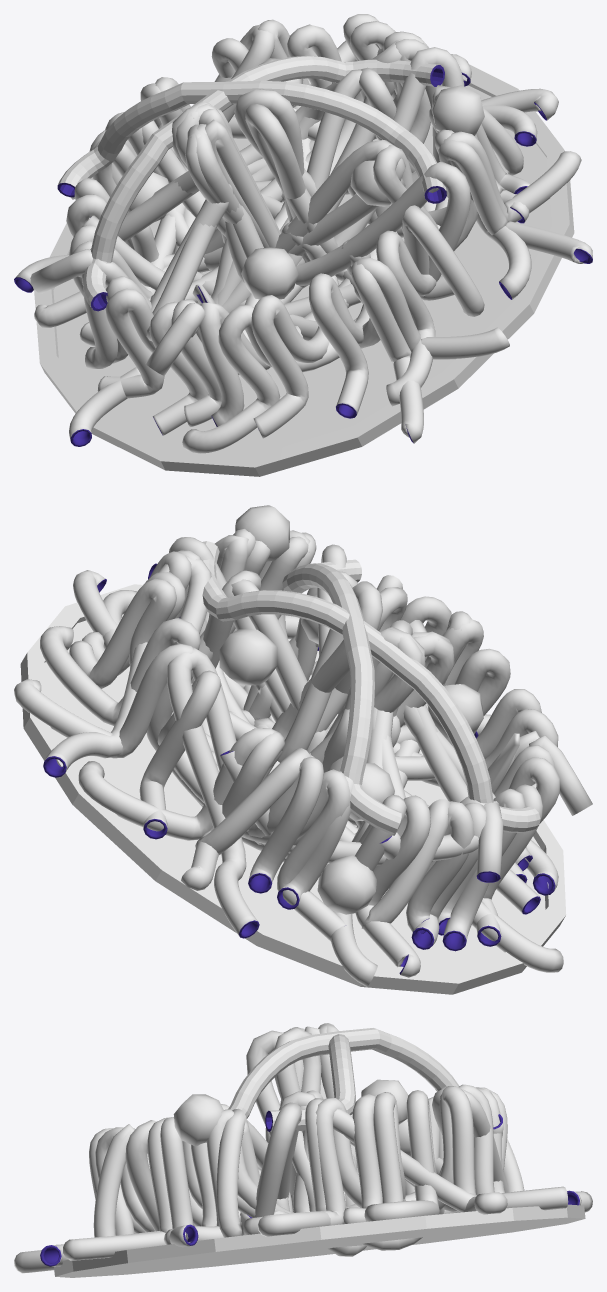
Rendered from spaghetti.glb.
The picture shows the model from 3 angles, top to bottom: view 1: azimuth 30°, elevation 25°; view 2: azimuth 150°, elevation 25°; view 3: azimuth 270°, elevation 25°; orthographic projection. The views are drawn at different scales.
Parts seen in each view (by area): view 1: Plane.003; view 2: Plane.003; view 3: Plane.003.
Boxes of the visible parts, box(x1,y1,x2,y2) form: Plane.003: box(14, 14, 592, 476); Plane.003: box(14, 505, 592, 994); Plane.003: box(14, 1023, 592, 1277).
Bounding box in the file's own units: 0.9992 × 0.6505 × 1.12.
